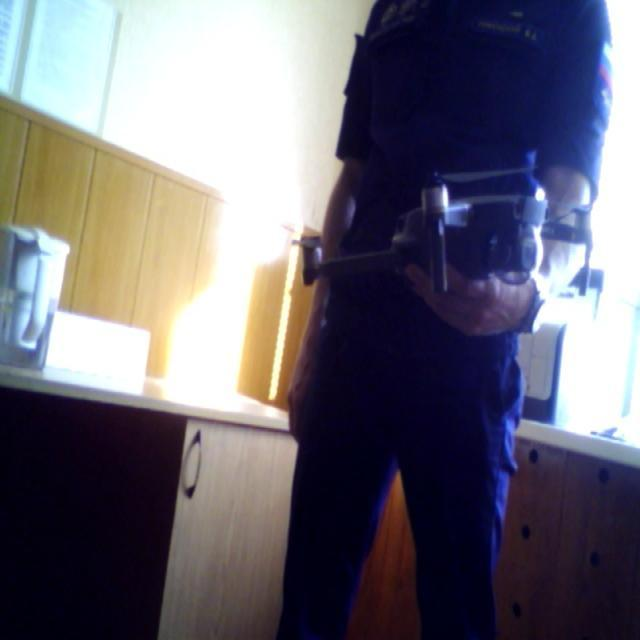drone: (278, 164, 624, 336)
